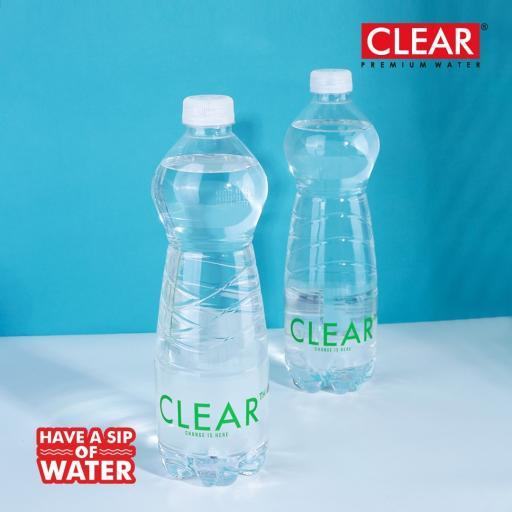bottle: (147, 86, 275, 487), (280, 63, 390, 400)
